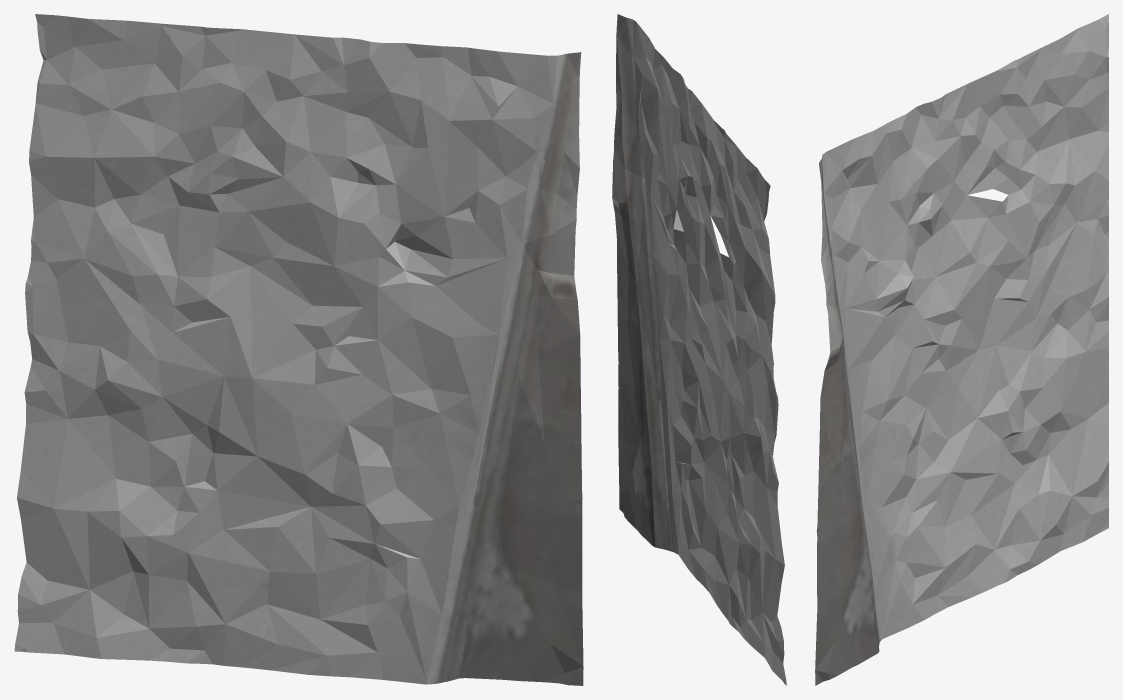
3 renders of one model, left to right at view 1: azimuth 30°, elevation 25°; view 2: azimuth 150°, elevation 25°; view 3: azimuth 270°, elevation 25°, orthographic. The views are drawn at different scales.
Bounding box in the file's own units: 0.5421 × 0.8374 × 0.4267.
Materials: 2 (2 with a texture image).
